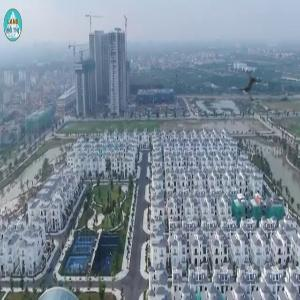drone: (219, 54, 287, 122)
